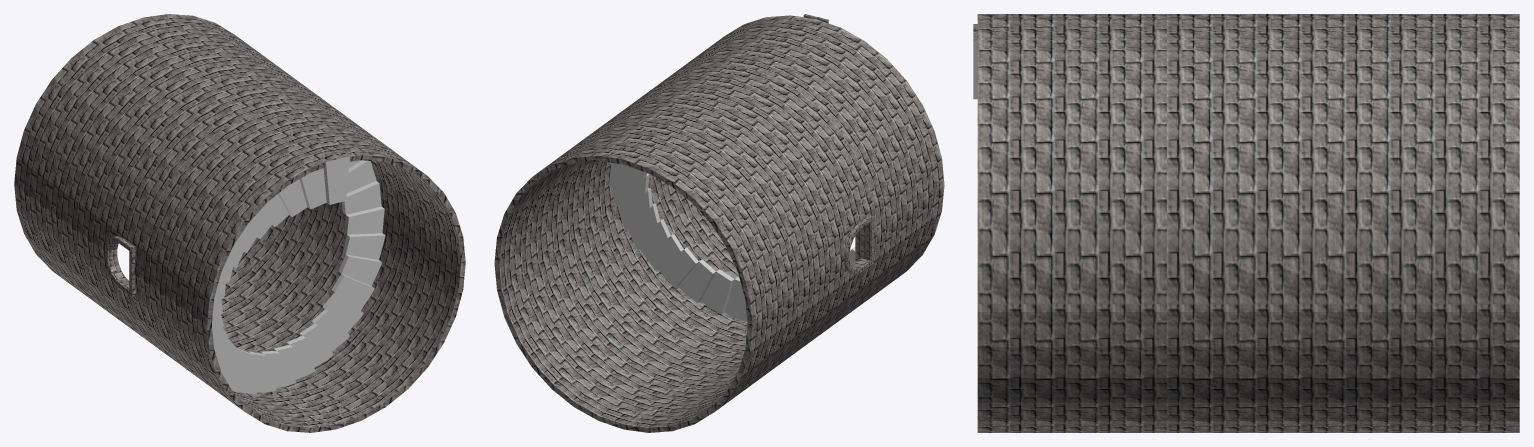
The model's file is WindowFlame_09.fbx.
The picture shows the model from 3 angles, left to right: view 1: azimuth 30°, elevation 25°; view 2: azimuth 150°, elevation 25°; view 3: azimuth 270°, elevation 25°; orthographic projection. The views are drawn at different scales.
Parts seen in each view (by area): view 1: Cylinder.001; view 2: Cylinder.001; view 3: Cylinder.001.
Part boxes in pixels (left/top/right/bottom): Cylinder.001: left=14, top=14, right=465, bottom=432; Cylinder.001: left=494, top=14, right=944, bottom=432; Cylinder.001: left=973, top=14, right=1519, bottom=432.
Bounding box in the file's own units: 938 × 932 × 1210.
